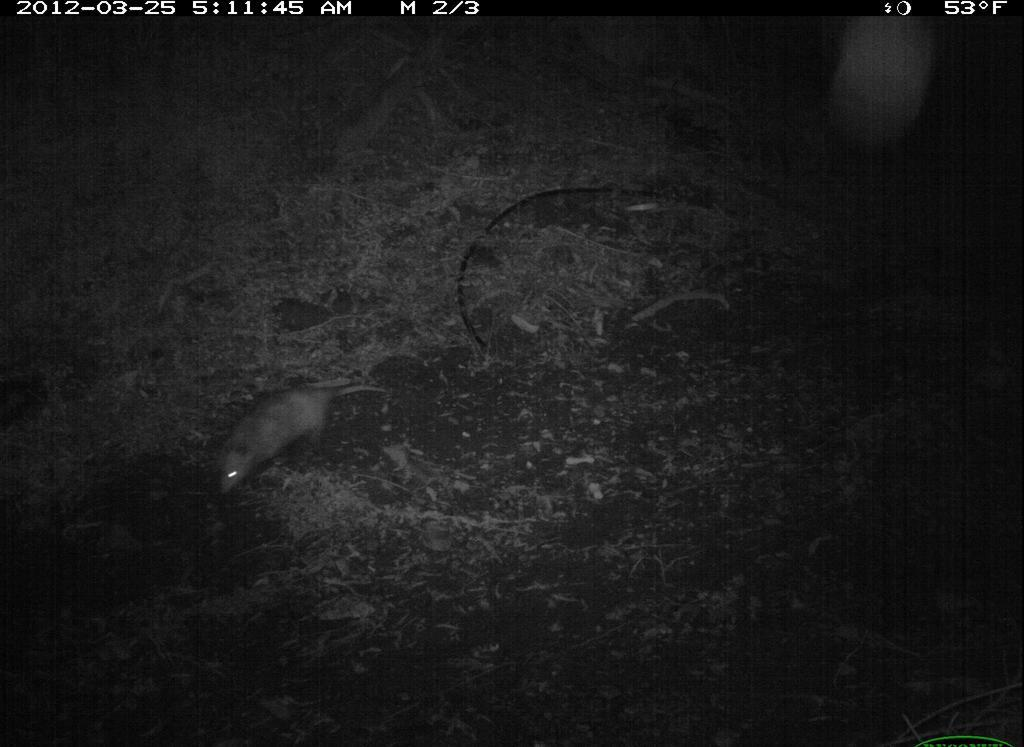opossum: (198, 360, 420, 511)
